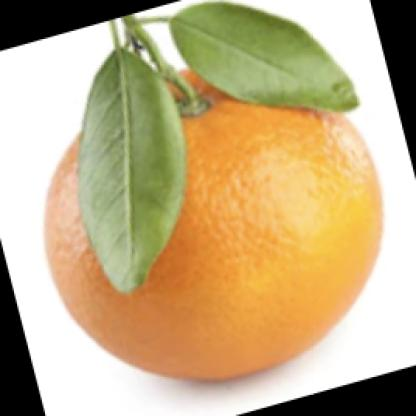fresh: (46, 68, 381, 382)
